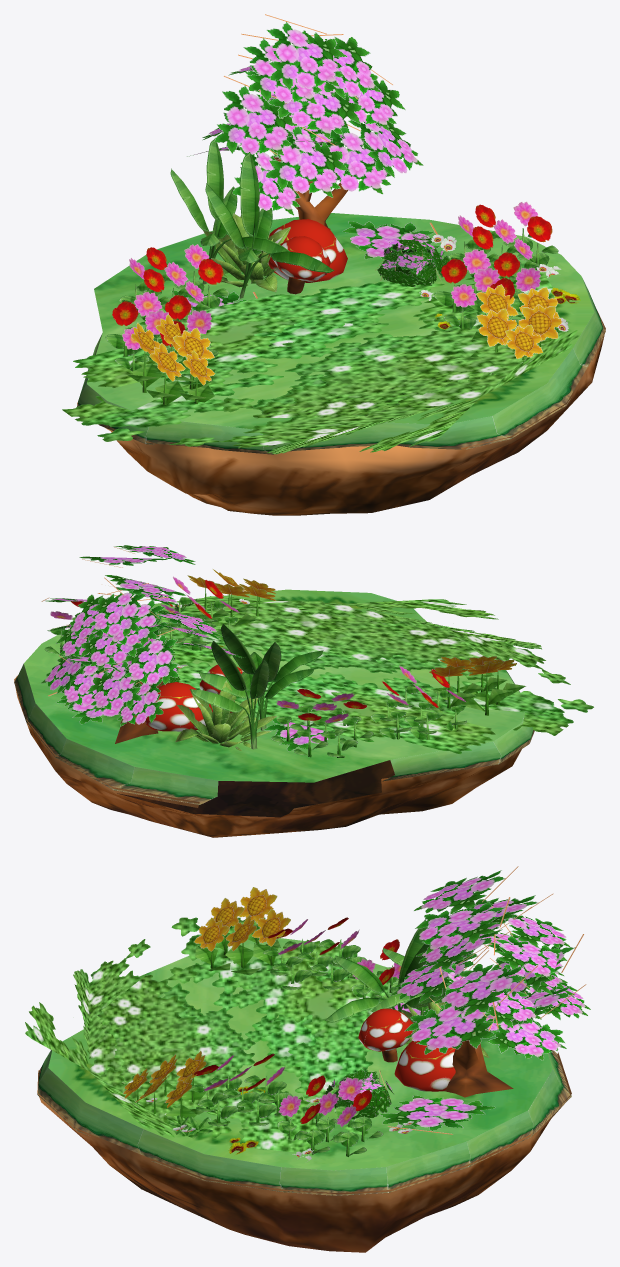
File: Cenário_Florido.FBX
3 views of the same model, one above another, from view 1: azimuth 30°, elevation 25°; view 2: azimuth 150°, elevation 25°; view 3: azimuth 270°, elevation 25° (orthographic). The views are drawn at different scales.
Visible parts, largest first — view 1: paisagem; view 2: paisagem; view 3: paisagem.
Part boxes in pixels (x1,y1,x2,y2): paisagem: (62,14,605,515); paisagem: (14,545,593,837); paisagem: (25,866,590,1252).
Bounding box in the file's own units: 909 × 563 × 891.
